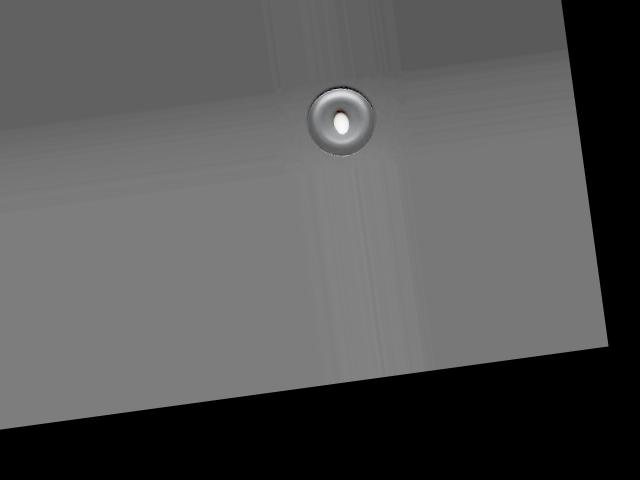egg: (332, 111, 350, 134)
